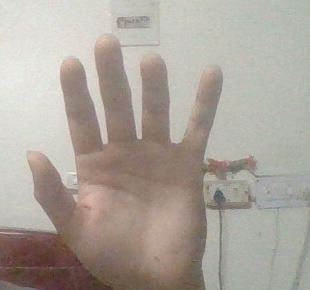move: (23, 34, 228, 281)
